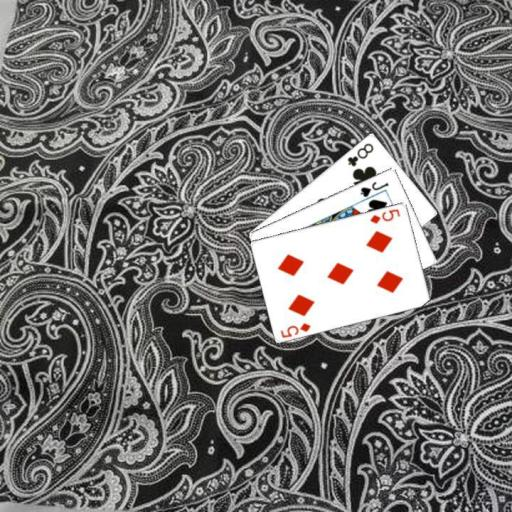5D: (278, 319, 313, 339), (367, 206, 402, 225)
8C: (344, 139, 375, 168)
JS: (357, 178, 390, 198)
